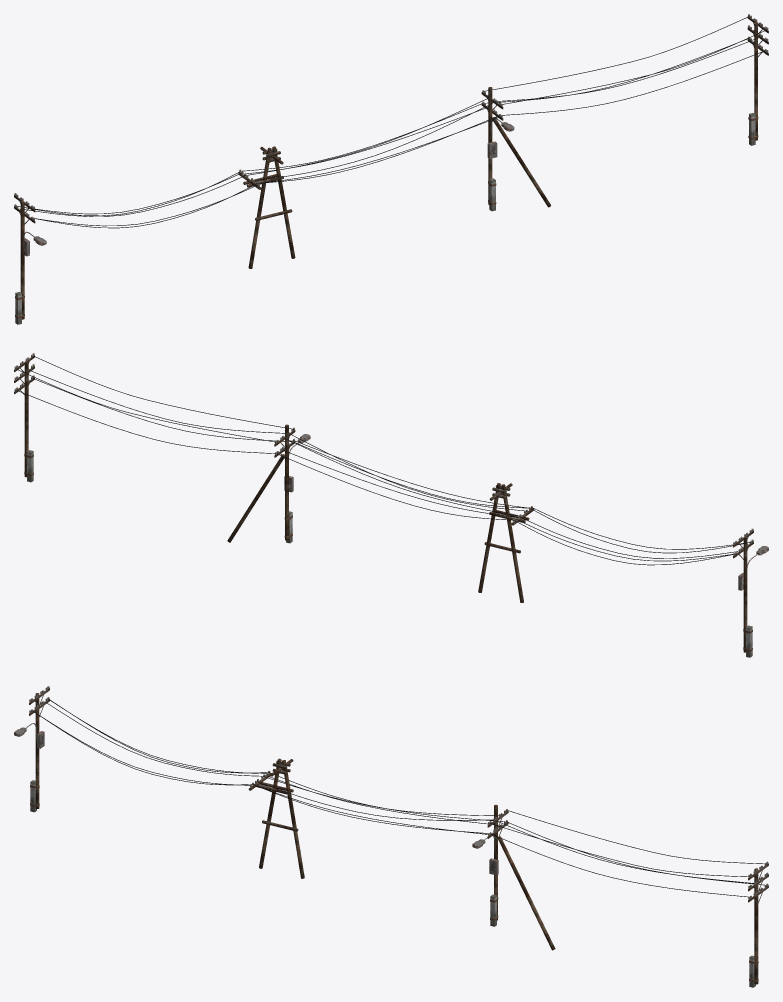
Rendered from lampOld_01.glb.
3 views of the same model, one above another, from view 1: azimuth 30°, elevation 25°; view 2: azimuth 150°, elevation 25°; view 3: azimuth 330°, elevation 25° (orthographic). The views are drawn at different scales.
Parts seen in each view (by area): view 1: geometry_16, geometry_0; view 2: geometry_16, geometry_0; view 3: geometry_16, geometry_0.
Boxes of the visible parts, box(x1,y1,x2,y2) form: geometry_16: box(14, 14, 768, 324); geometry_0: box(18, 17, 766, 228); geometry_16: box(14, 353, 768, 657); geometry_0: box(16, 356, 749, 565); geometry_16: box(14, 686, 768, 987); geometry_0: box(32, 699, 764, 897).
Size of the model in its own units: 43.64 by 7.58 by 3.24.
2 materials, 1 textured.
